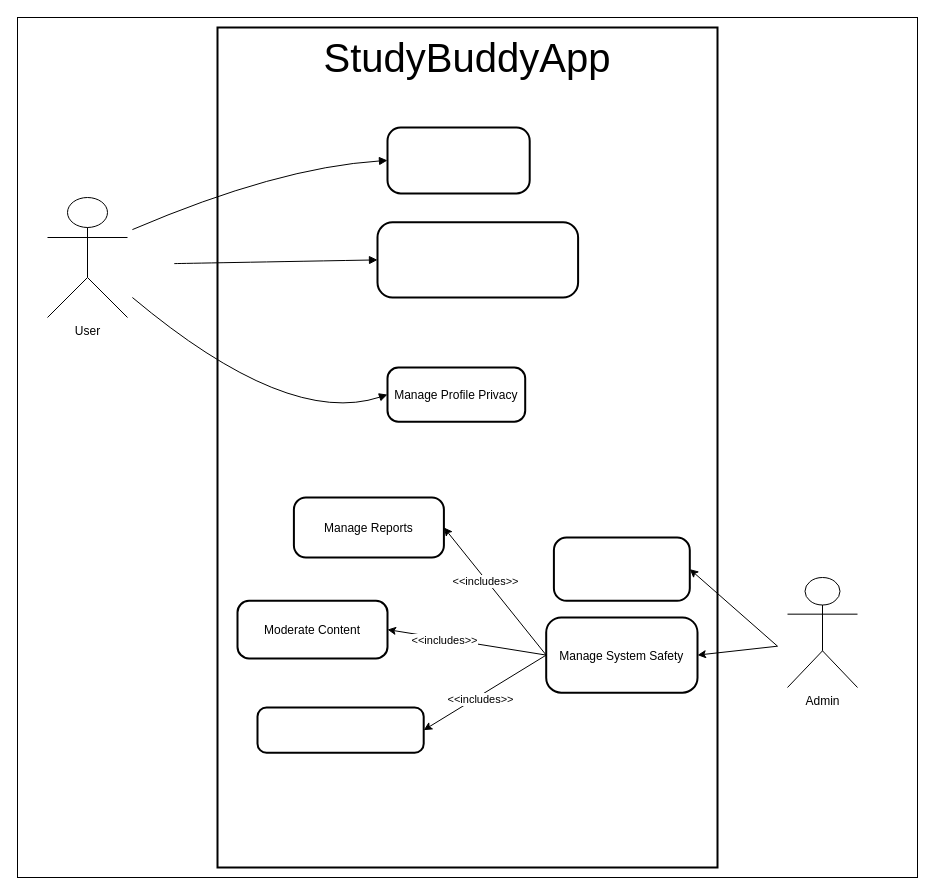
Some shapes in this 935 by 895 pixel diagram are drawn without their labels. Each missing label, with the centre of its shape:
"Chat with Study Buddies" goes at (458,160).
"Rate and Feedback Study Session" goes at (477,259).
"Suspend Accounts" goes at (340,729).
"View System Analytics" goes at (621,568).
